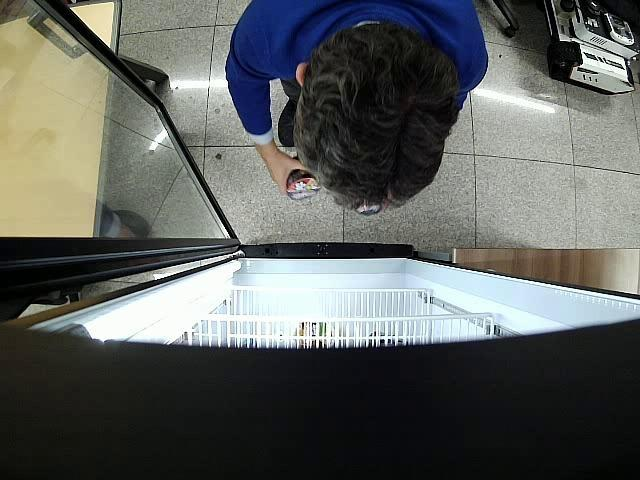08_buldak_S: (287, 168, 319, 200)
